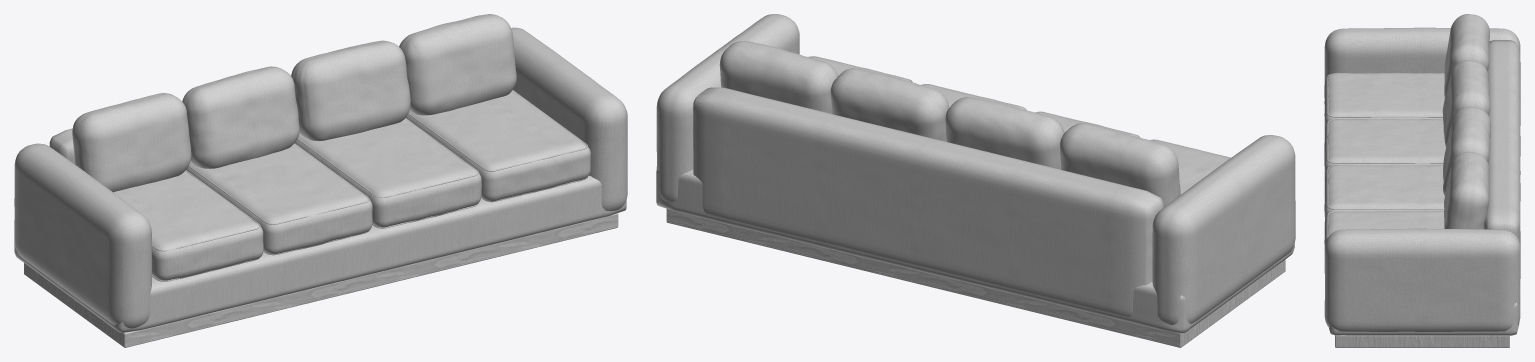
The model's file is sofa-4-seater.gltf.
The picture shows the model from 3 angles, left to right: view 1: azimuth 30°, elevation 25°; view 2: azimuth 150°, elevation 25°; view 3: azimuth 270°, elevation 25°; orthographic projection. The views are drawn at different scales.
Parts seen in each view (by area): view 1: sofa; view 2: sofa; view 3: sofa.
Boxes of the visible parts, x1,y1,x2,y2 form: sofa: (14,14,627,347); sofa: (656,14,1295,347); sofa: (1324,14,1520,347).
Bounding box in the file's own units: 2.5 × 0.7806 × 0.9531.
Materials: 2 (2 with a texture image).
